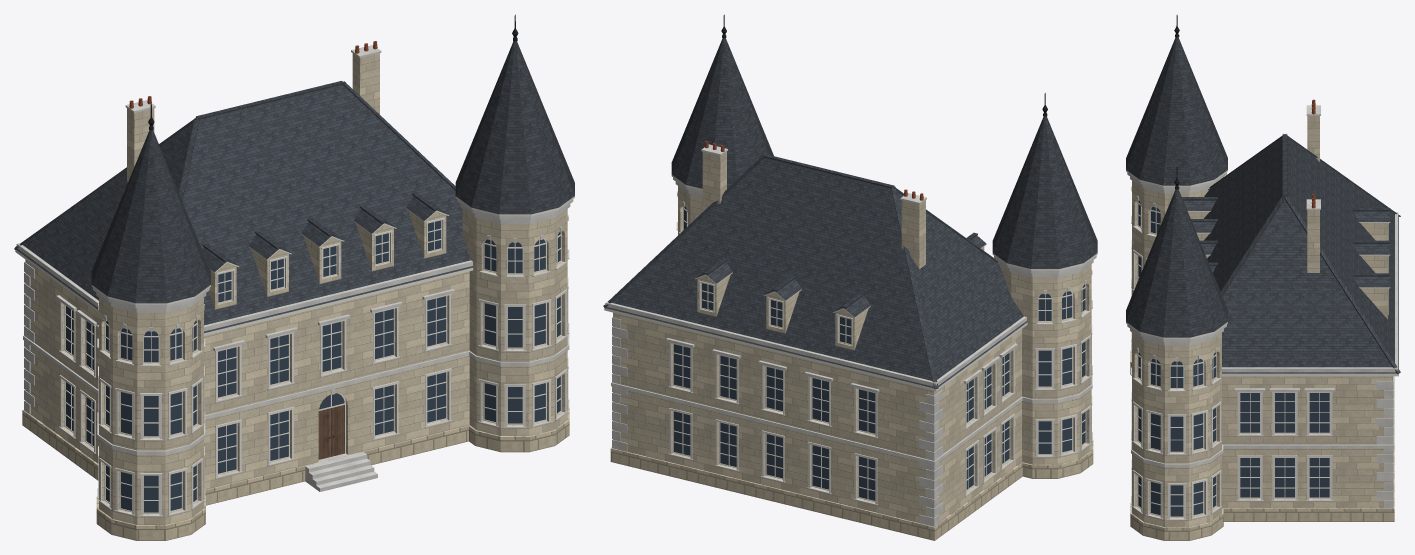
The model's file is french-chateau.glb.
The picture shows the model from 3 angles, left to right: view 1: azimuth 30°, elevation 25°; view 2: azimuth 150°, elevation 25°; view 3: azimuth 270°, elevation 25°; orthographic projection. The views are drawn at different scales.
Visible parts, largest first — view 1: French_Chateau; view 2: French_Chateau; view 3: French_Chateau.
Boxes of the visible parts, <box> form: French_Chateau: <box>14,14,574,540</box>; French_Chateau: <box>603,14,1097,540</box>; French_Chateau: <box>1126,14,1400,540</box>.
Size of the model in its own units: 25.68 by 21.8 by 15.29.
Materials: 12 (6 with a texture image).
